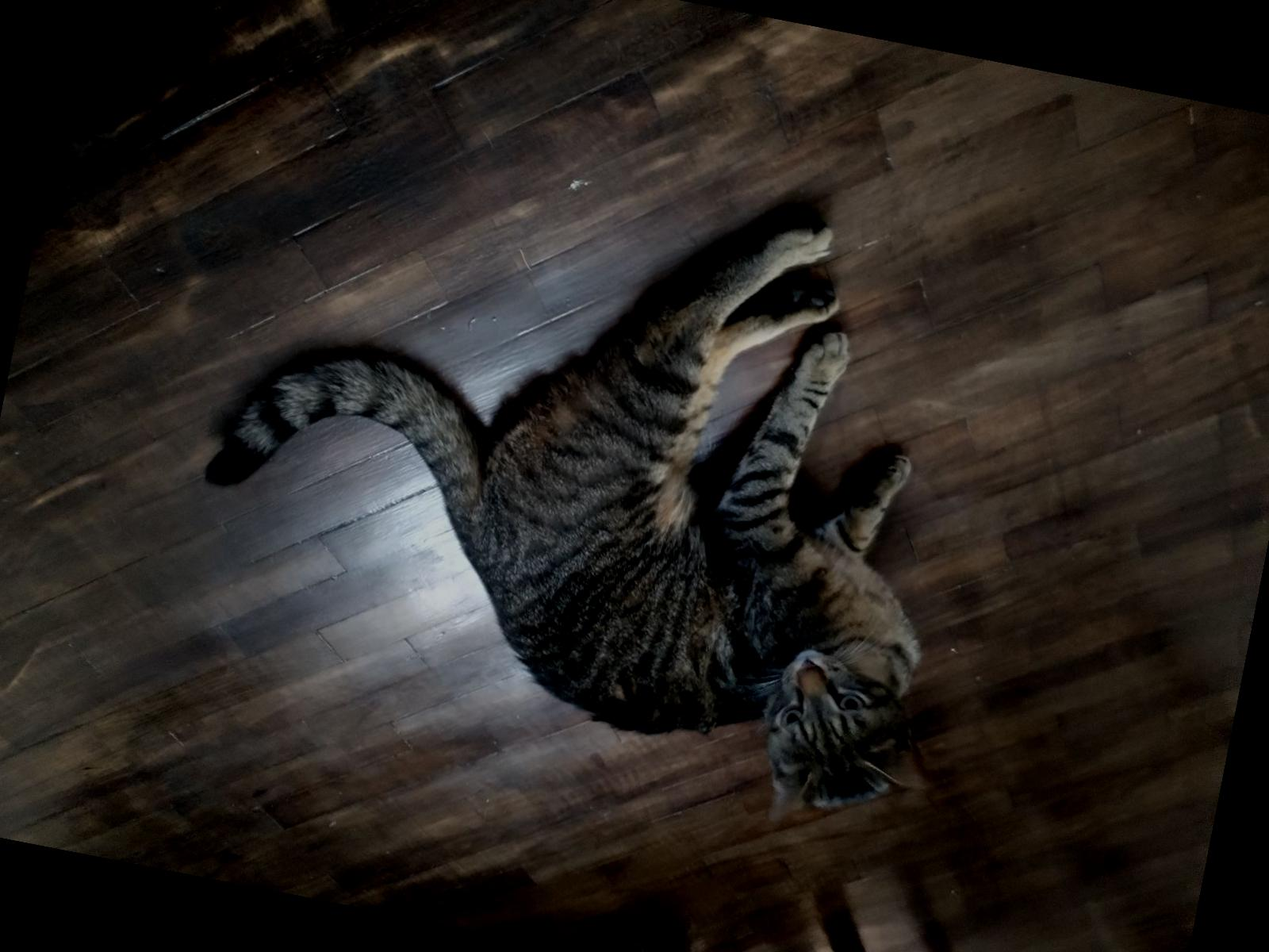macka: (157, 115, 1028, 856)
